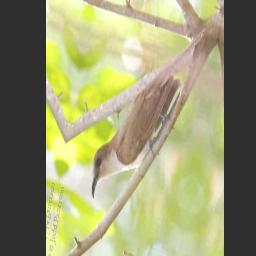Cuckoo: (86, 48, 183, 230)
